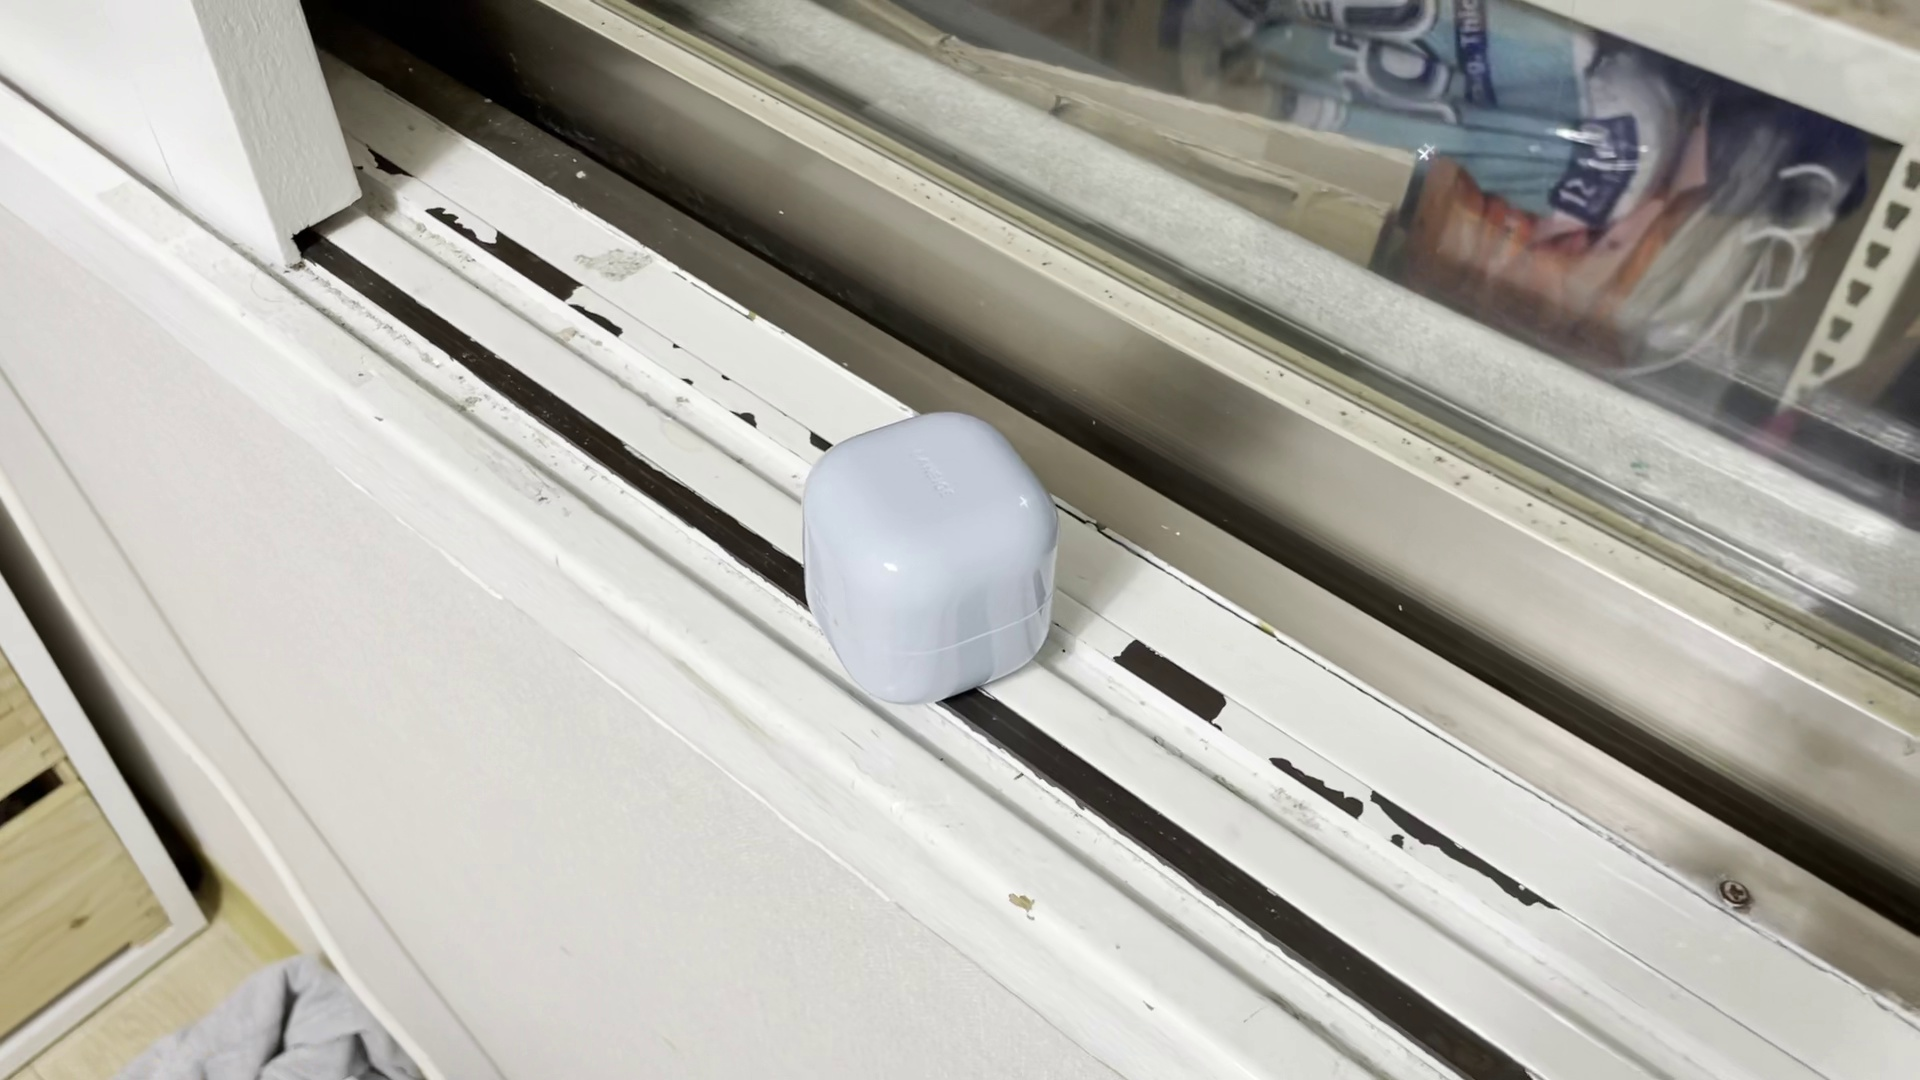cream: (800, 413, 1058, 707)
